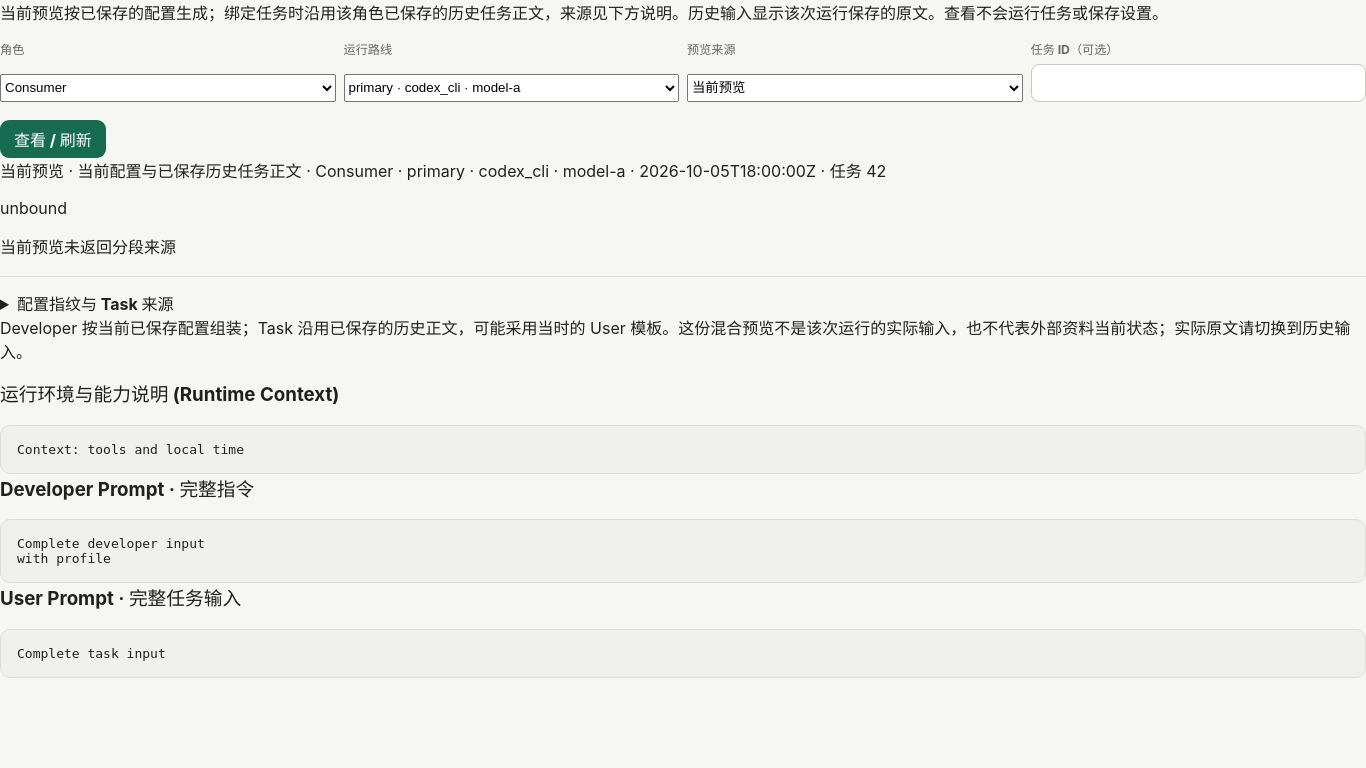
Test: RuntimePromptPreview › shows current and historical Task configuration hashes separately without replacing Task text
Expected: the text "Complete task input" is shown, [0,629,1365,678]
Click the heading "配置指纹与 Task 来源" at (95, 304), box [17,294,174,314]
(page scrolled)
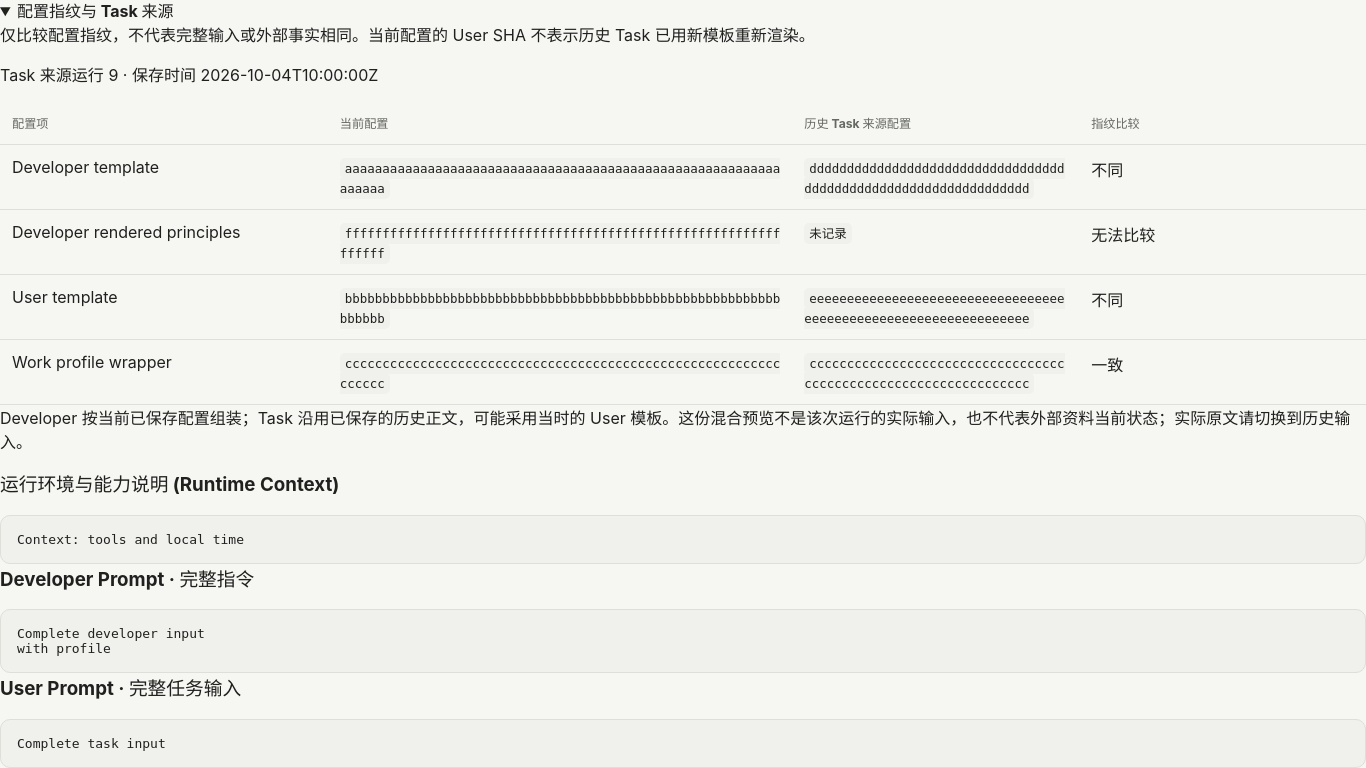
Expected: the column heading "当前配置" is shown, [328,102,792,144]
Expected: the column heading "历史 Task 来源配置" is shown, [792,102,1079,144]
Expected: the text "未记录" is shown, [804,223,852,244]
